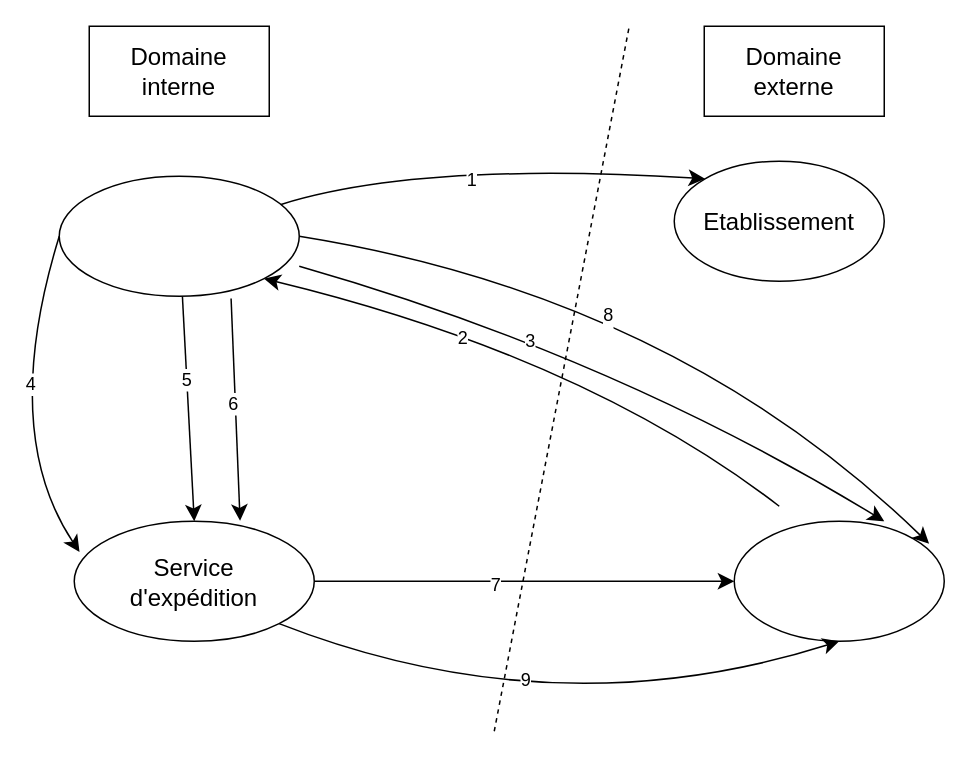
The diagram is 972 pixels wide and 758 high, and some of its shapes have lost their labels. The centre of each missing label's shape, as x and y in pixels:
"Professseur" goes at (x=838, y=580).
"Secrétariat" goes at (x=178, y=235).
